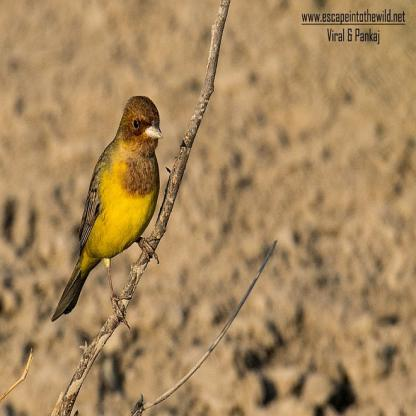Burung: (50, 92, 162, 327)
